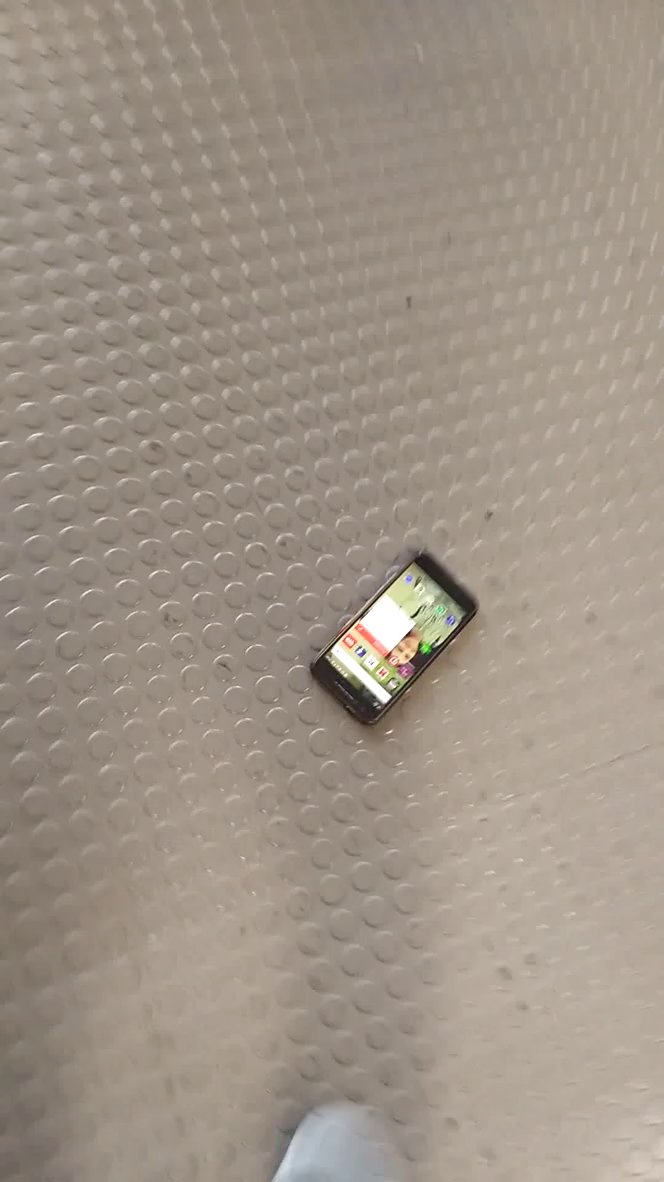phone: (293, 534, 493, 739)
